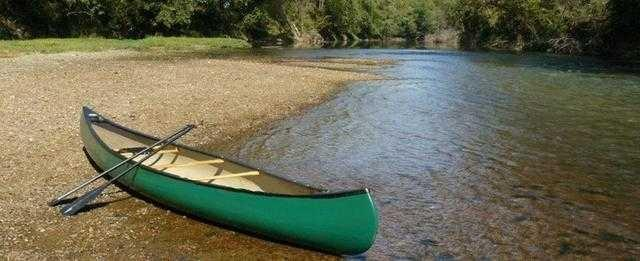kayak: (76, 105, 380, 255)
